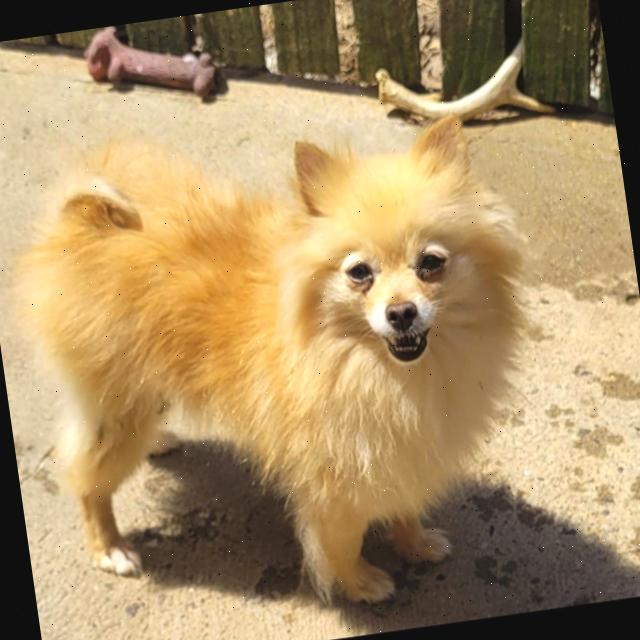pomeranian_dog: (250, 100, 528, 450)
